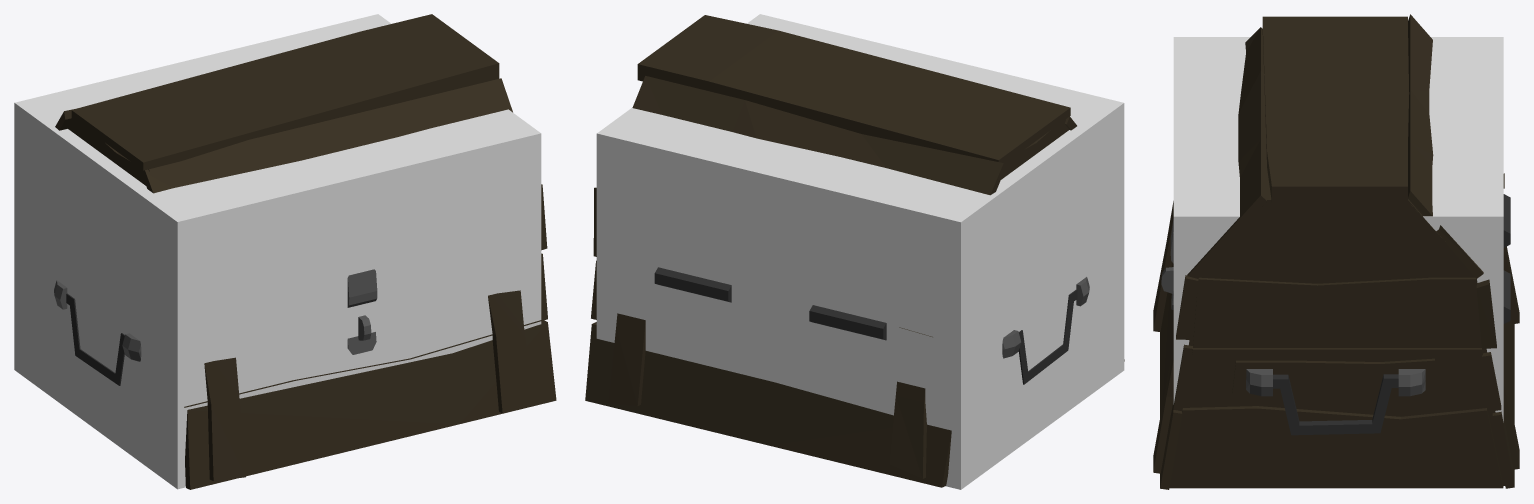
Rendered from wooden_chest_unlocked.glb.
3 renders of one model, left to right at view 1: azimuth 30°, elevation 25°; view 2: azimuth 150°, elevation 25°; view 3: azimuth 270°, elevation 25°, orthographic.
Parts seen in each view (by area): view 1: Cube, Chest; view 2: Cube, Chest; view 3: Chest, Cube.
Part boxes in pixels (bbox=[...]): Cube: bbox=[14, 14, 541, 489]; Chest: bbox=[54, 14, 556, 489]; Cube: bbox=[596, 14, 1124, 489]; Chest: bbox=[585, 15, 1124, 487]; Chest: bbox=[1153, 14, 1519, 489]; Cube: bbox=[1173, 37, 1503, 486].
Size of the model in its own units: 0.8949 by 0.6508 by 0.711.
